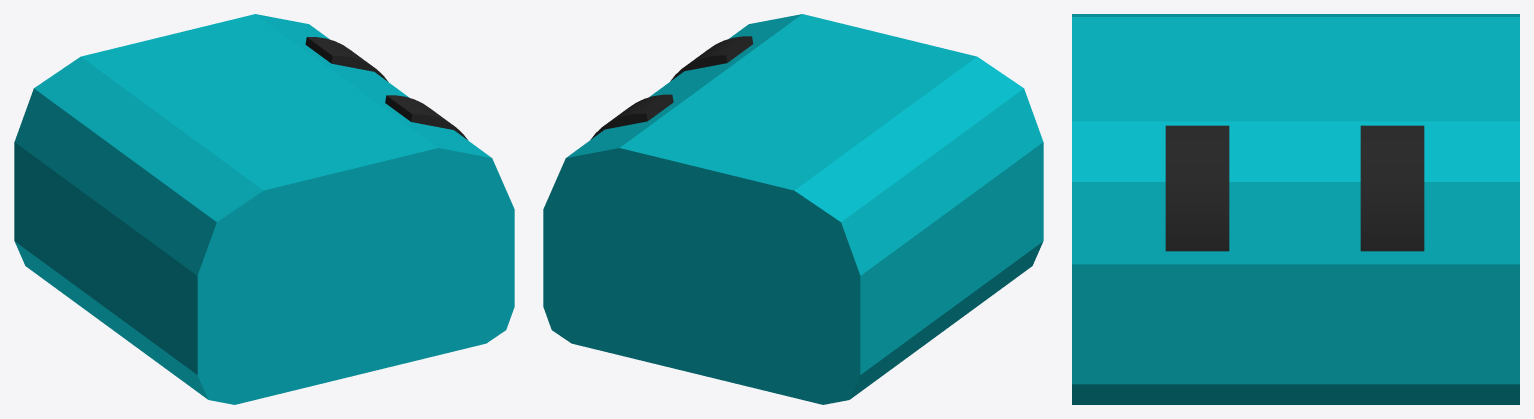
File: ShiLaiMu.fbx
3 renders of one model, left to right at view 1: azimuth 30°, elevation 25°; view 2: azimuth 150°, elevation 25°; view 3: azimuth 270°, elevation 25°, orthographic. The views are drawn at different scales.
Parts seen in each view (by area): view 1: 立方体; view 2: 立方体; view 3: 立方体.
Boxes of the visible parts, x1,y1,x2,y2 form: 立方体: (14,14,514,404); 立方体: (543,14,1043,404); 立方体: (1072,14,1519,404).
Size of the model in its own units: 60.53 by 37.92 by 59.92.
